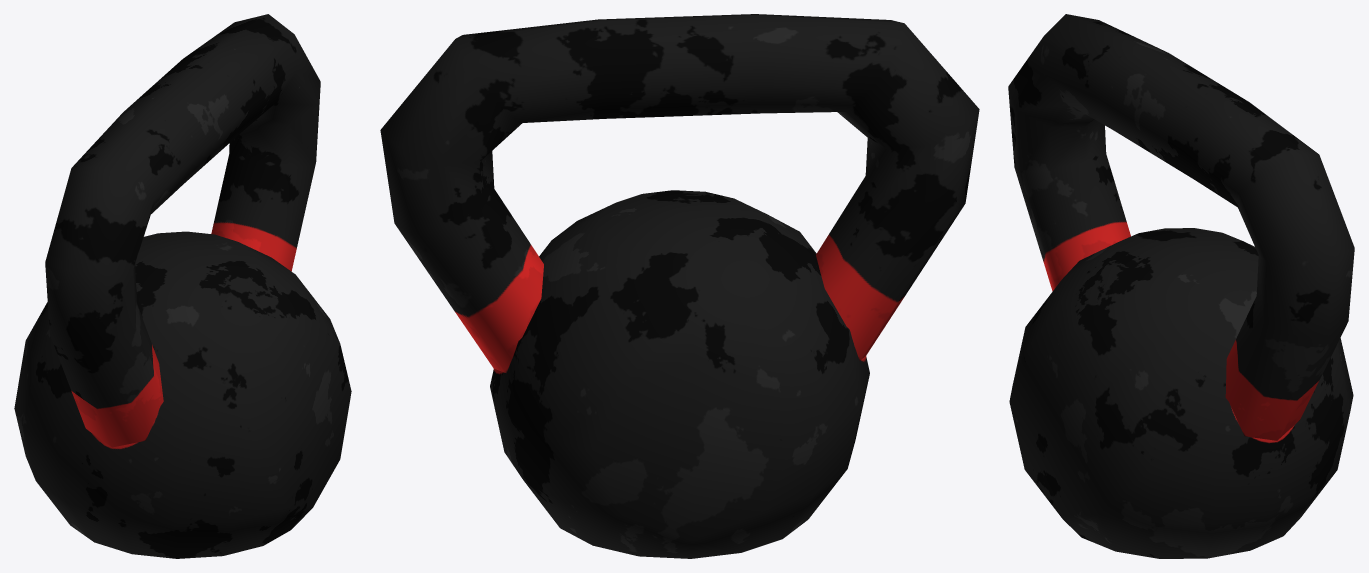
3 renders of one model, left to right at view 1: azimuth 30°, elevation 25°; view 2: azimuth 150°, elevation 25°; view 3: azimuth 270°, elevation 25°, orthographic. The views are drawn at different scales.
Visible parts, largest first — view 1: Little_Kettlebell; view 2: Little_Kettlebell; view 3: Little_Kettlebell.
Part boxes in pixels (x1,y1,x2,y2): Little_Kettlebell: (14, 14, 351, 558); Little_Kettlebell: (380, 14, 979, 558); Little_Kettlebell: (1008, 14, 1354, 558).
Bounding box in the file's own units: 4.81 × 5.04 × 3.63.
Materials: 1 (1 with a texture image).
